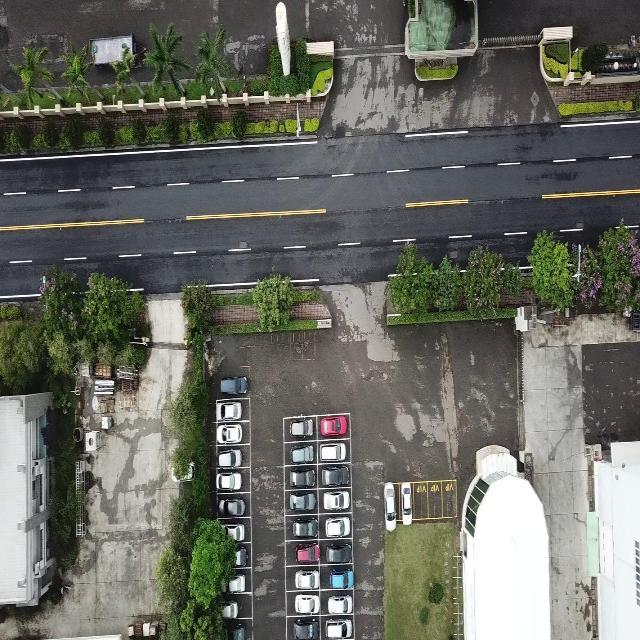car: (381, 481, 397, 531), (285, 488, 318, 512), (319, 412, 349, 438), (322, 514, 352, 540), (321, 487, 352, 512), (290, 515, 320, 540), (284, 415, 314, 440), (217, 495, 249, 518), (322, 616, 354, 639), (320, 464, 352, 487), (214, 468, 244, 492), (214, 420, 244, 444), (287, 465, 318, 488), (292, 567, 320, 592), (318, 440, 347, 464), (291, 592, 321, 615), (294, 540, 322, 564), (287, 442, 315, 466), (327, 567, 355, 591), (219, 373, 249, 395), (290, 617, 320, 639), (215, 399, 243, 422), (325, 592, 353, 615), (325, 541, 352, 564), (215, 446, 244, 467), (220, 521, 247, 542), (400, 481, 412, 525)
